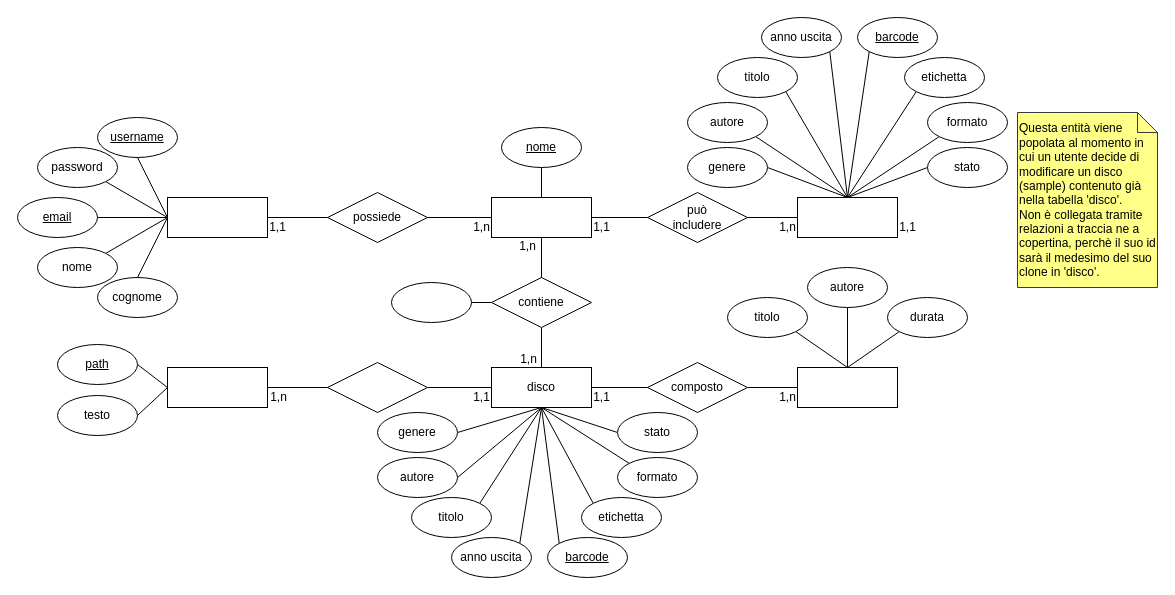
The diagram is 1175 pixels wide and 595 high, and some of its shapes have lost their labels. Each missing label, with the box of its shape:
collezione: (490, 196, 592, 238)
copertina: (166, 366, 268, 408)
disco_collezione: (796, 196, 898, 238)
presenta: (326, 362, 428, 412)
quantità: (390, 282, 472, 322)
traccia: (796, 366, 898, 408)
utente: (166, 196, 268, 238)
